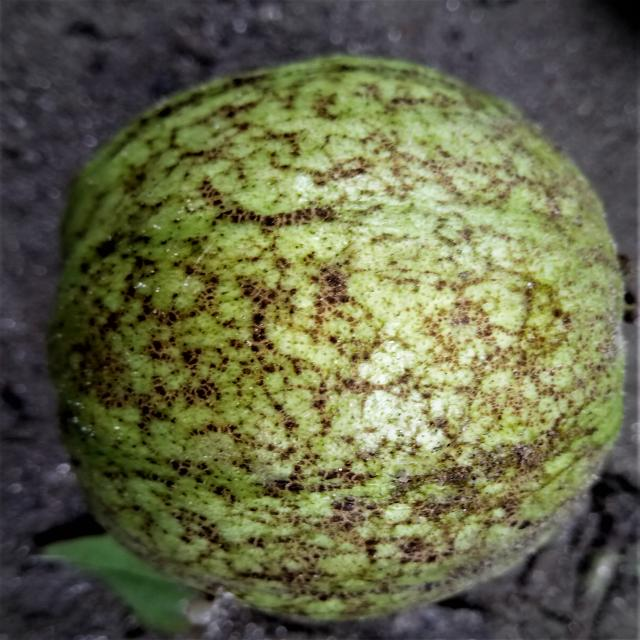Scab: (51, 56, 623, 620)
